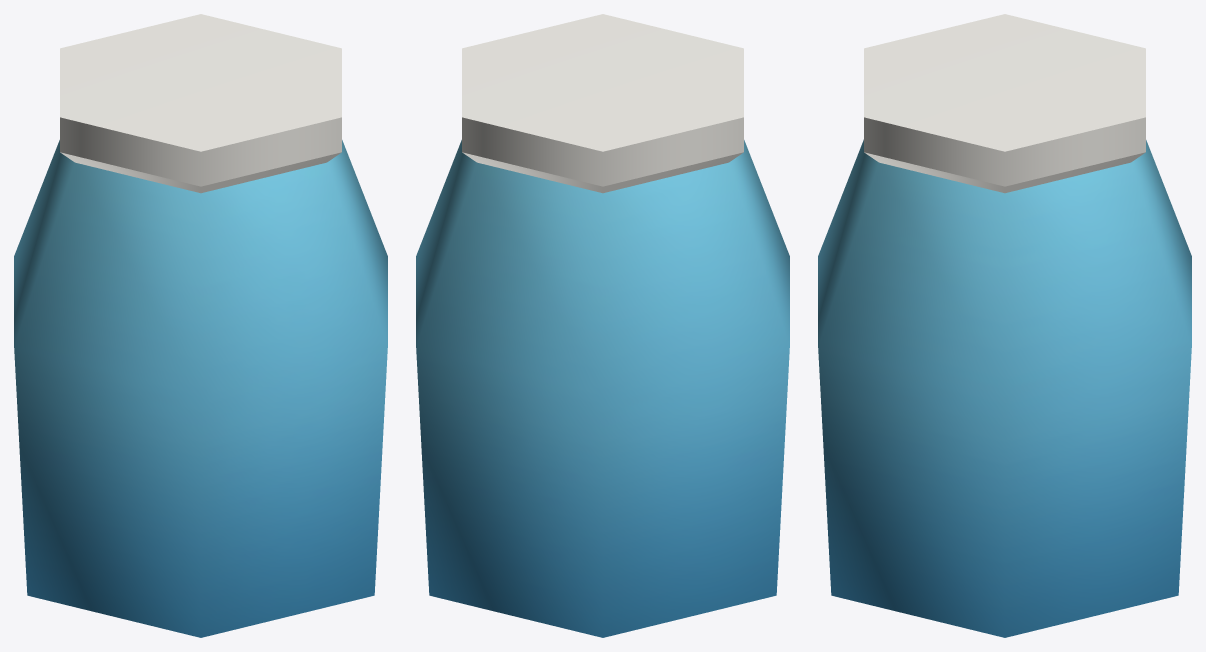
Rendered from SM_Jam_Bottle_3_03.fbx.
3 views of the same model, side by side, from view 1: azimuth 30°, elevation 25°; view 2: azimuth 150°, elevation 25°; view 3: azimuth 270°, elevation 25° (orthographic).
Visible parts, largest first — view 1: SM_Jam_Bottle_3_03; view 2: SM_Jam_Bottle_3_03; view 3: SM_Jam_Bottle_3_03.
Boxes of the visible parts, bbox=[...] form: SM_Jam_Bottle_3_03: bbox=[14, 14, 387, 637]; SM_Jam_Bottle_3_03: bbox=[416, 14, 789, 637]; SM_Jam_Bottle_3_03: bbox=[818, 14, 1191, 637].
Bounding box in the file's own units: 9.24 × 11.14 × 8.
